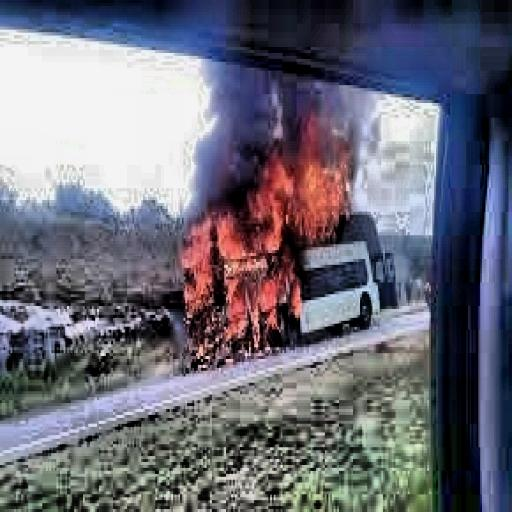fire: (177, 115, 367, 359)
